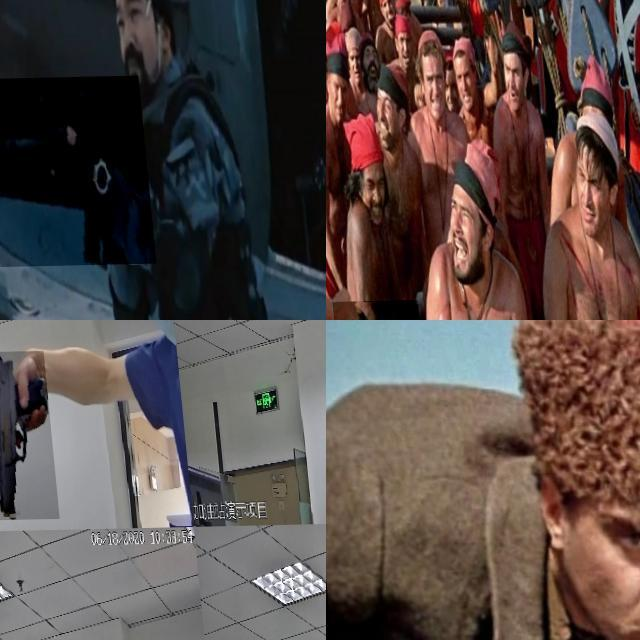gun-knife-thesis - v11 Yolov5 augmented: (0, 76, 148, 266), (0, 351, 53, 520)
